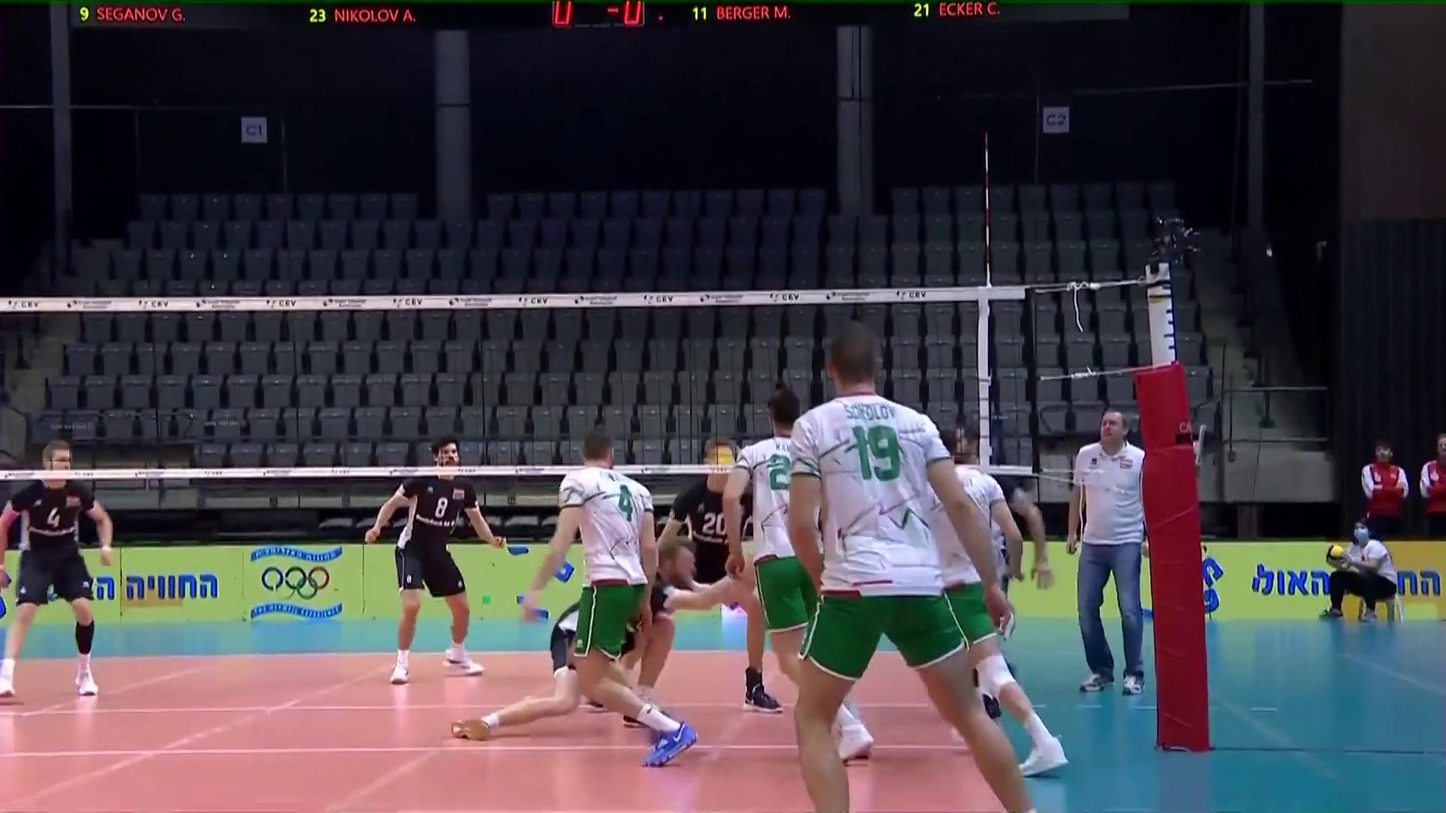ball: (712, 442, 736, 466)
